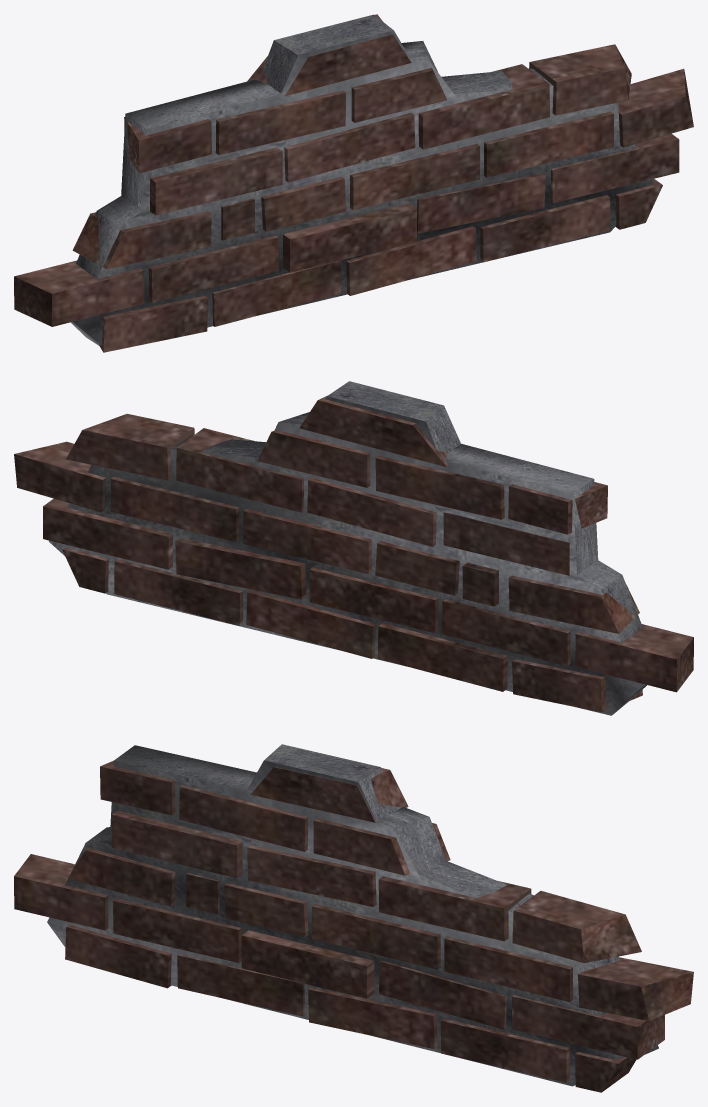
The model's file is prop_redbrick_wall_debris_02.glb.
The picture shows the model from 3 angles, top to bottom: view 1: azimuth 30°, elevation 25°; view 2: azimuth 150°, elevation 25°; view 3: azimuth 330°, elevation 25°; orthographic projection.
Size of the model in its own units: 63.4 by 23.02 by 5.44.
2 materials, 2 textured.
